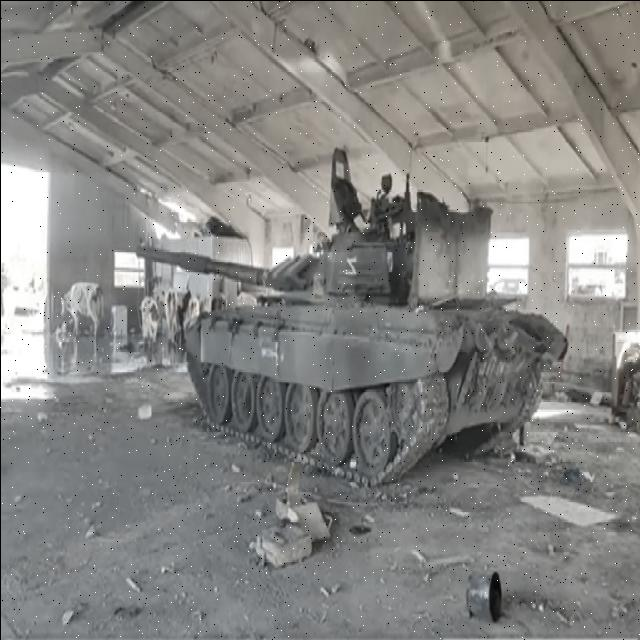TANK: (135, 186, 561, 506)
